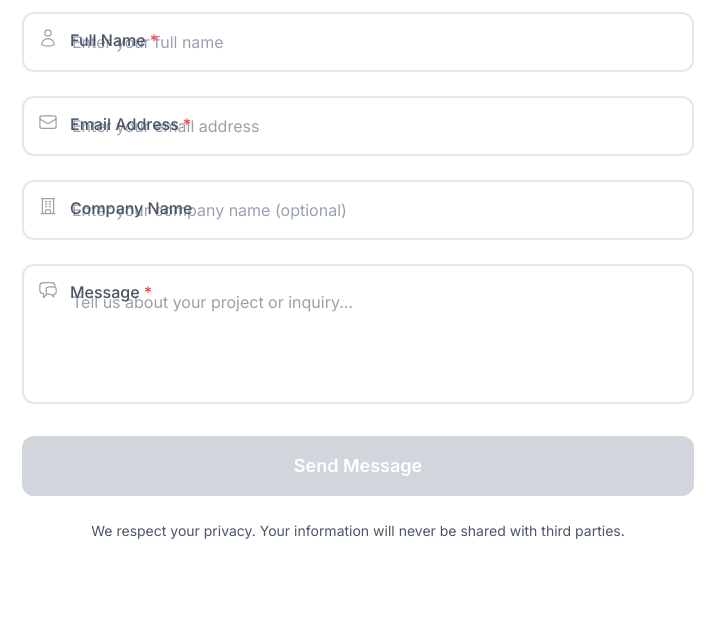
Test: ContactForm › Form Validation › validates minimum field lengths
Test name minimum length
In the field labelled "Full Name*": (358, 42) [22,12,694,72], type "A"
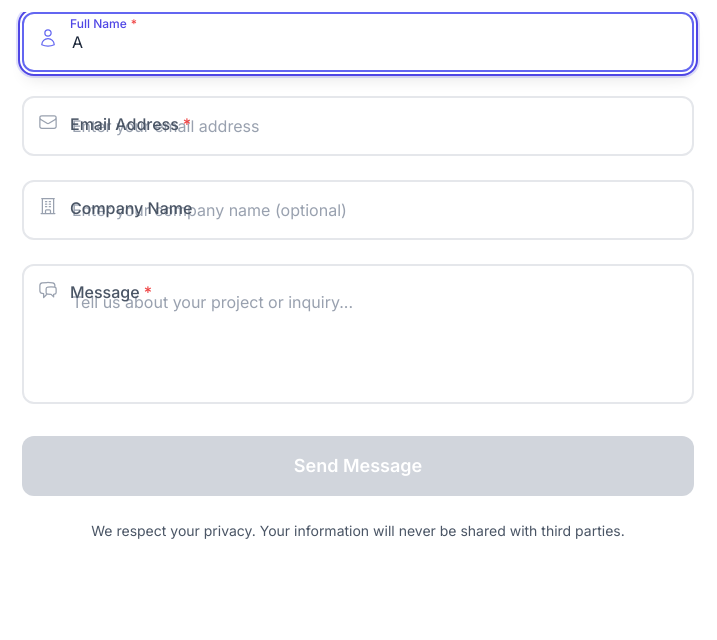
Press Tab
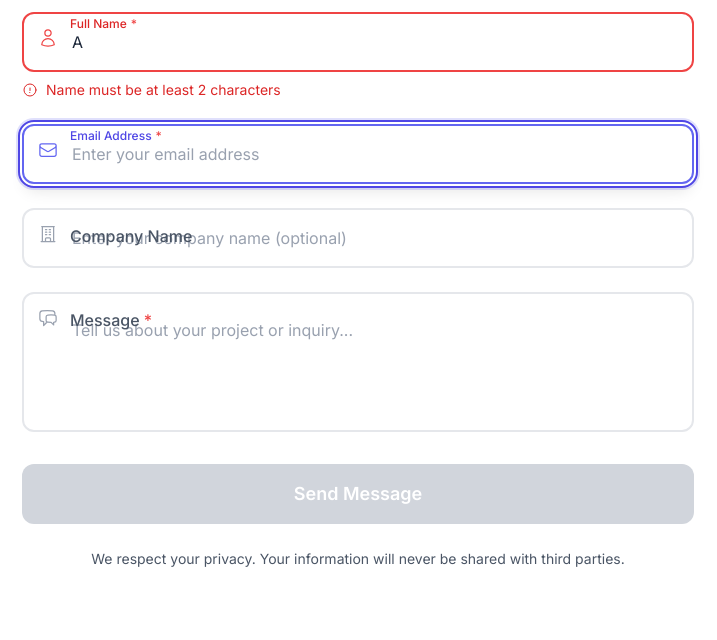
Check: the text "Name must be at least 2 characters" is shown, box [46,80,281,100]
Test message minimum length
In the text box labelled "Message*": (358, 362) [22,292,694,432], type "Short"
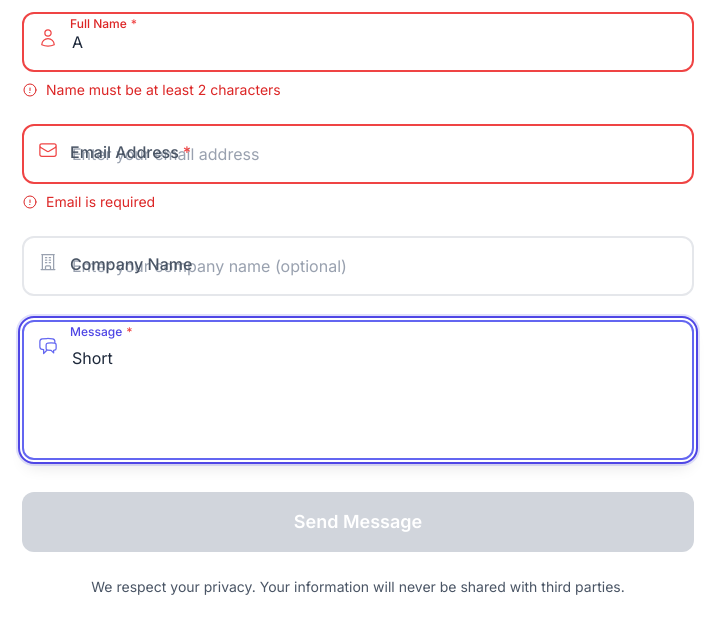
Press Tab
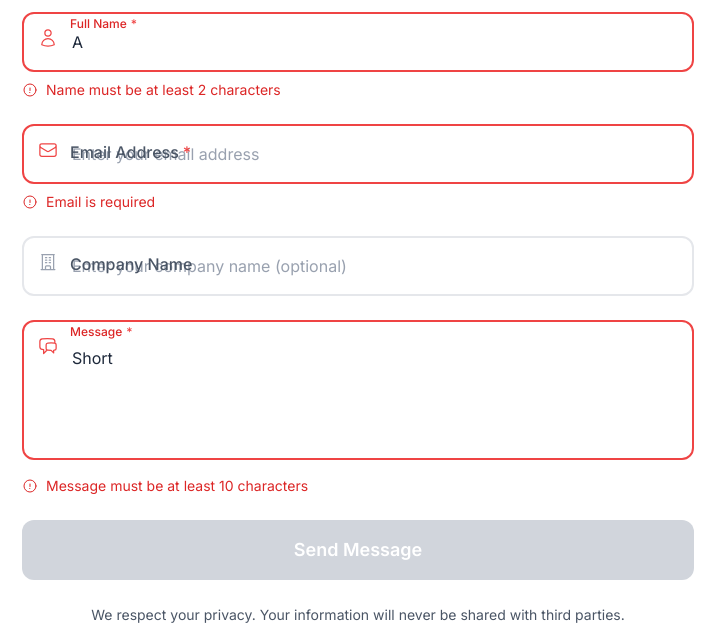
Check: the text "Message must be at least 10 characters" is shown, box [46,476,308,496]
